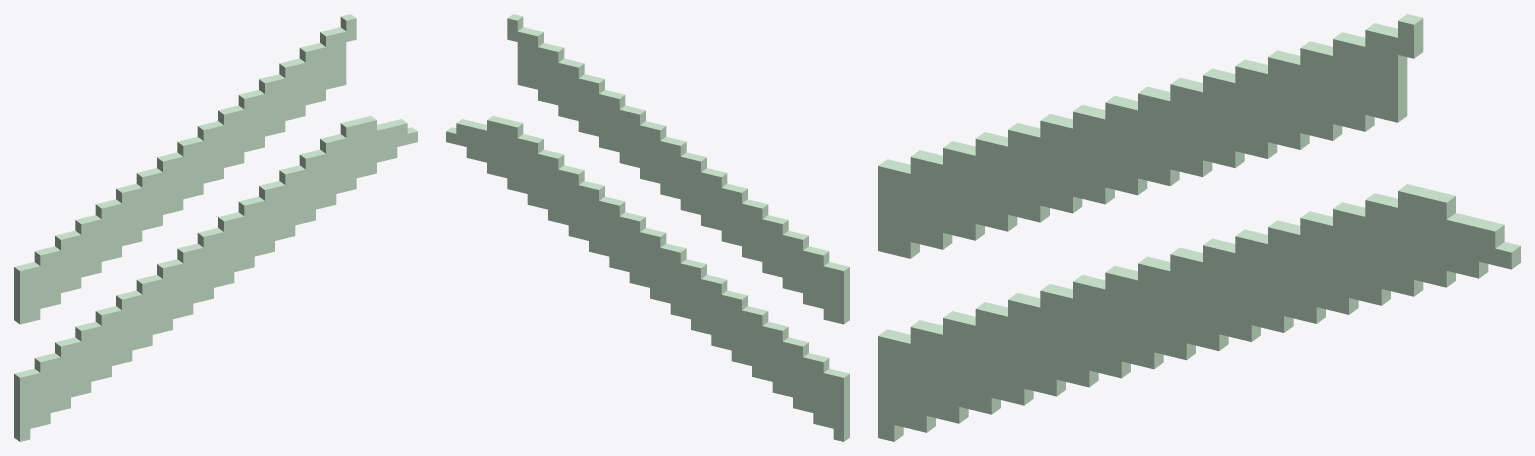
The model's file is Fight_721_2_02_fx.obj.
3 views of the same model, side by side, from view 1: azimuth 30°, elevation 25°; view 2: azimuth 150°, elevation 25°; view 3: azimuth 330°, elevation 25° (orthographic). The views are drawn at different scales.
Size of the model in its own units: 3.9 by 3.2 by 0.1.
1 material, 1 textured.
